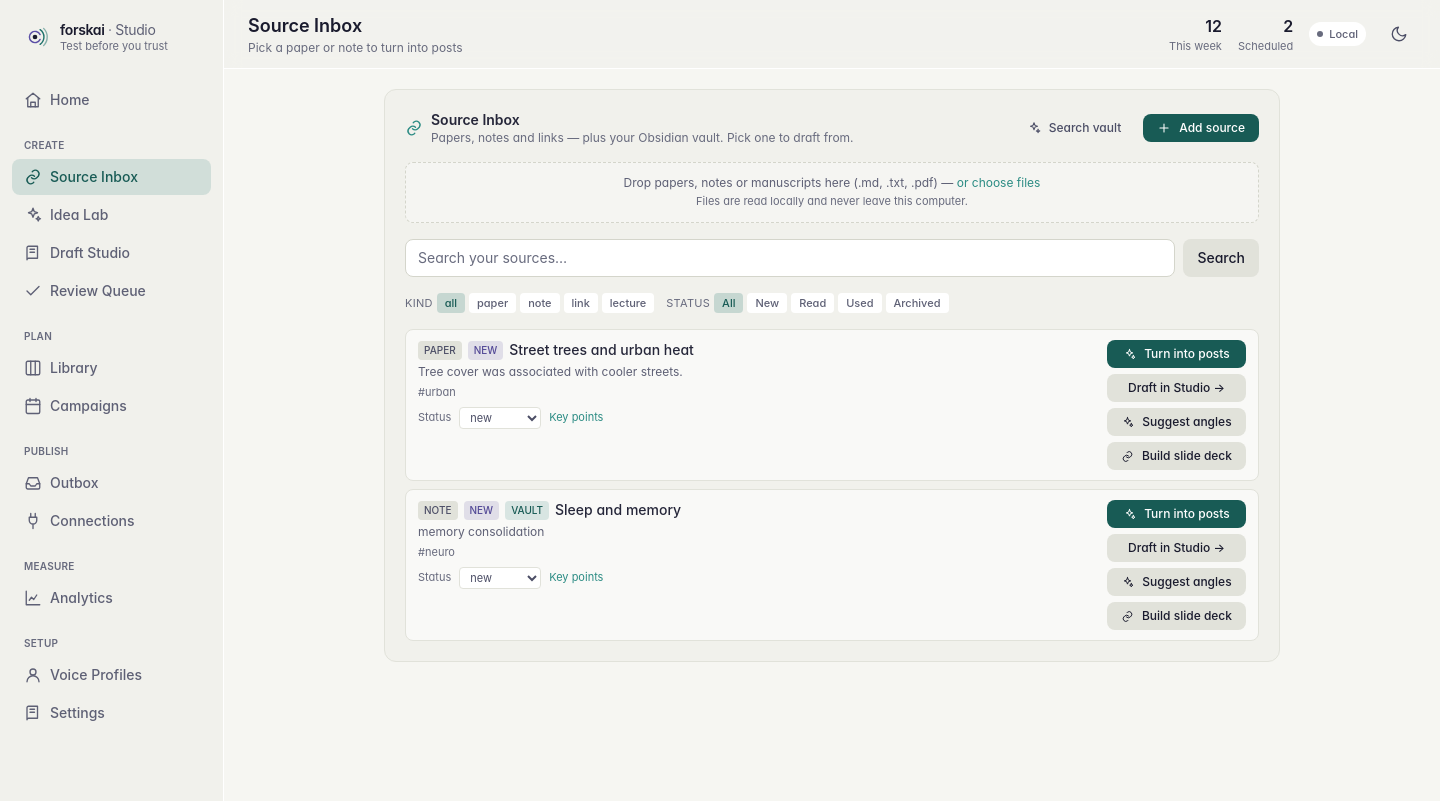
Test case: Source Inbox › makes a carousel deck from a source with a safety-review banner
Expected: the list with test id "source-list" is shown, [405,329,1259,641]
Click the 1st button "Build slide deck".
click(1176, 456)  # box [1107,442,1246,470]
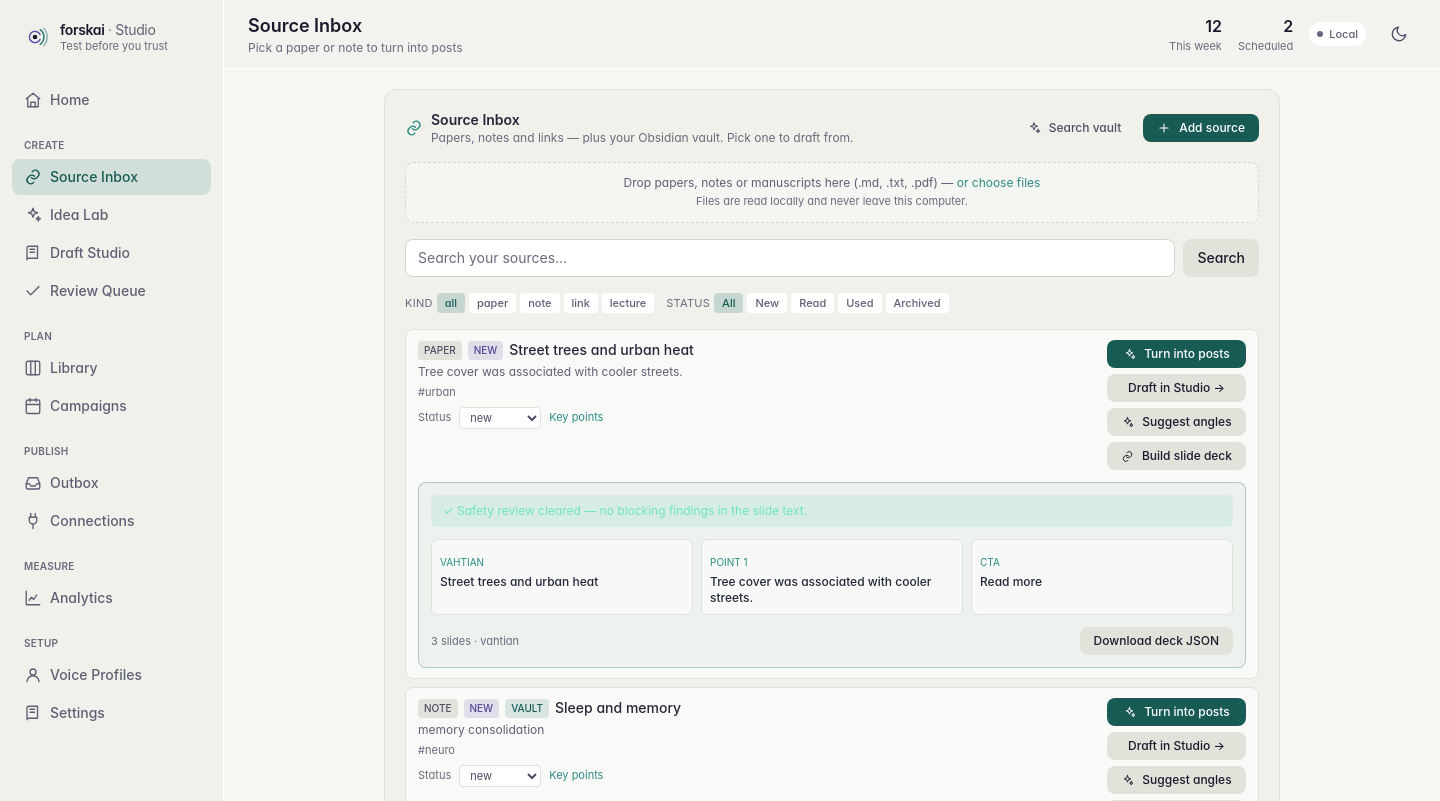
Expected: the text "Safety review cleared" is shown, [443,503,807,518]
Expected: the button "Download deck JSON" is shown, [1080,627,1233,655]
